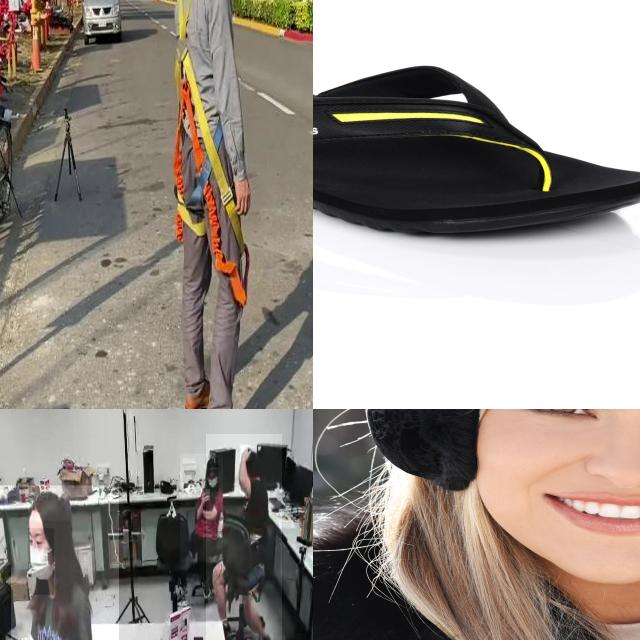Ear-protection: (355, 409, 491, 494)
Harness: (175, 48, 250, 310)
Sandals: (313, 62, 640, 240)
face_mask: (28, 528, 54, 595), (206, 469, 218, 492)
hand_noglove: (239, 444, 251, 462), (200, 489, 210, 501)
head_nohelmet: (27, 488, 69, 522), (242, 446, 258, 460), (205, 457, 219, 469)
person: (0, 485, 119, 640), (205, 434, 282, 640), (180, 453, 223, 563)
